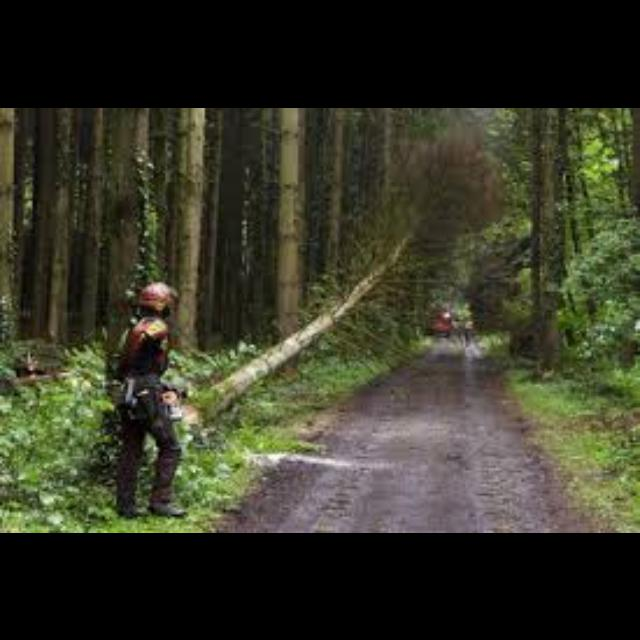Fallen Tree: (168, 249, 386, 431)
